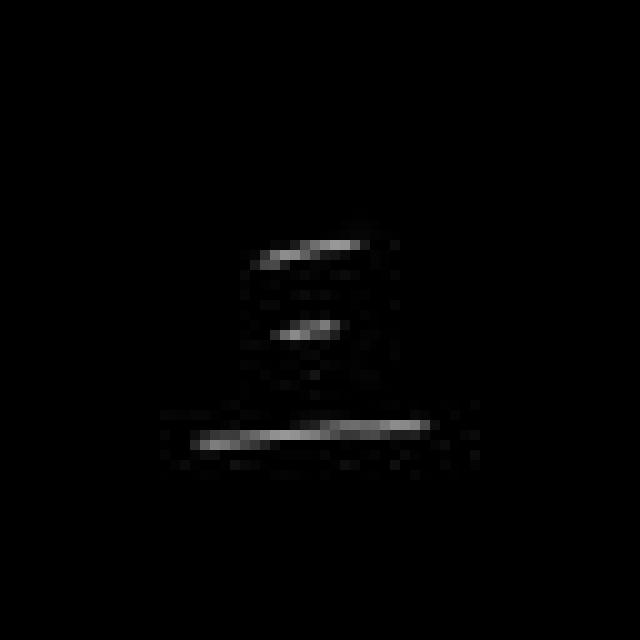3 -three-: (190, 218, 444, 462)
